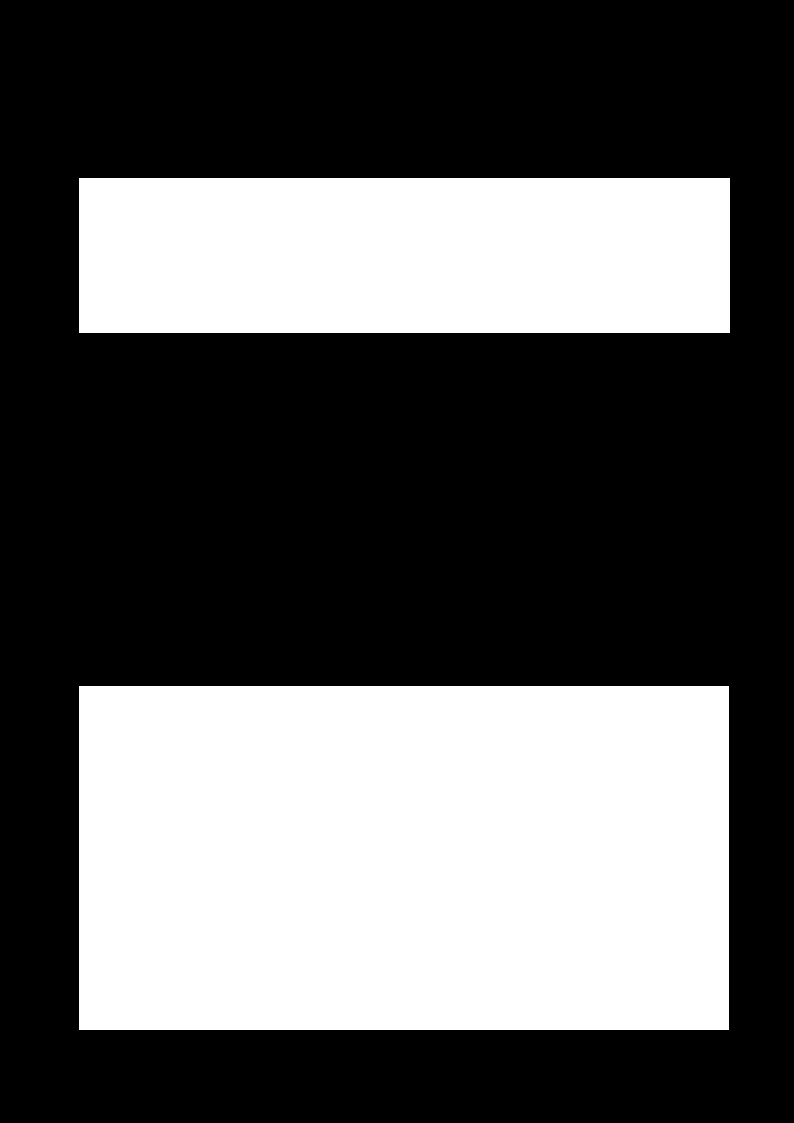table: (79, 686, 728, 1029), (79, 178, 729, 332)
